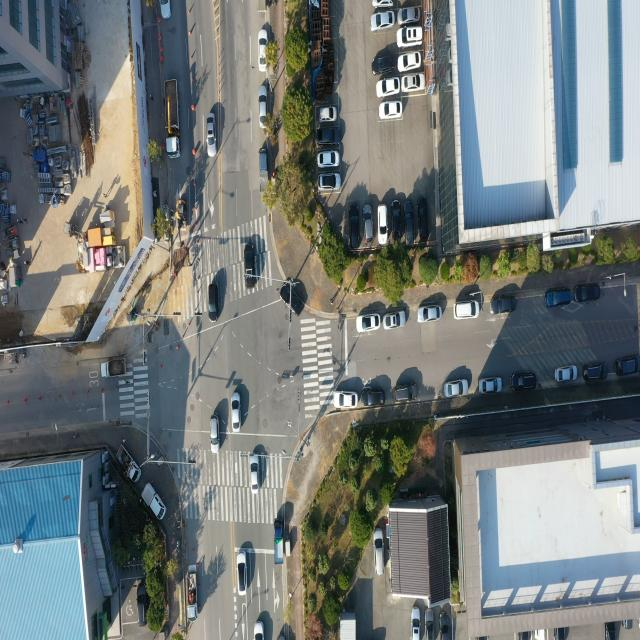car: (278, 283, 305, 316), (370, 55, 396, 81), (332, 389, 358, 411), (362, 382, 384, 408), (543, 288, 571, 308), (404, 199, 416, 245), (611, 356, 640, 374), (489, 298, 515, 317), (371, 10, 395, 30), (418, 195, 428, 242), (511, 374, 537, 392), (244, 243, 256, 282), (378, 78, 400, 99), (438, 607, 452, 640), (380, 100, 403, 120), (398, 27, 422, 46), (383, 311, 407, 330), (349, 205, 360, 246), (454, 302, 479, 320), (444, 380, 469, 398), (575, 284, 600, 302), (238, 551, 248, 595), (403, 73, 426, 92), (417, 306, 441, 324), (398, 53, 420, 72), (318, 173, 340, 192), (356, 314, 379, 332), (257, 31, 267, 71), (317, 128, 339, 146), (207, 114, 216, 158), (424, 608, 436, 640), (317, 150, 339, 167), (555, 364, 577, 381), (250, 455, 260, 492), (210, 416, 220, 453), (479, 378, 502, 394), (378, 205, 388, 241), (376, 531, 384, 576), (391, 203, 401, 239), (581, 362, 603, 378), (233, 394, 242, 433), (400, 6, 419, 24), (208, 285, 218, 319), (410, 607, 420, 640), (393, 387, 414, 402), (362, 205, 371, 240), (556, 371, 577, 386), (318, 106, 336, 123), (261, 84, 269, 122), (159, 0, 171, 19), (253, 622, 263, 640), (373, 0, 395, 7)
medium_truck: (162, 82, 180, 157)
small_truck: (140, 482, 166, 525), (185, 561, 200, 621), (116, 444, 140, 480), (273, 518, 286, 564), (100, 360, 126, 380), (258, 144, 268, 193)
